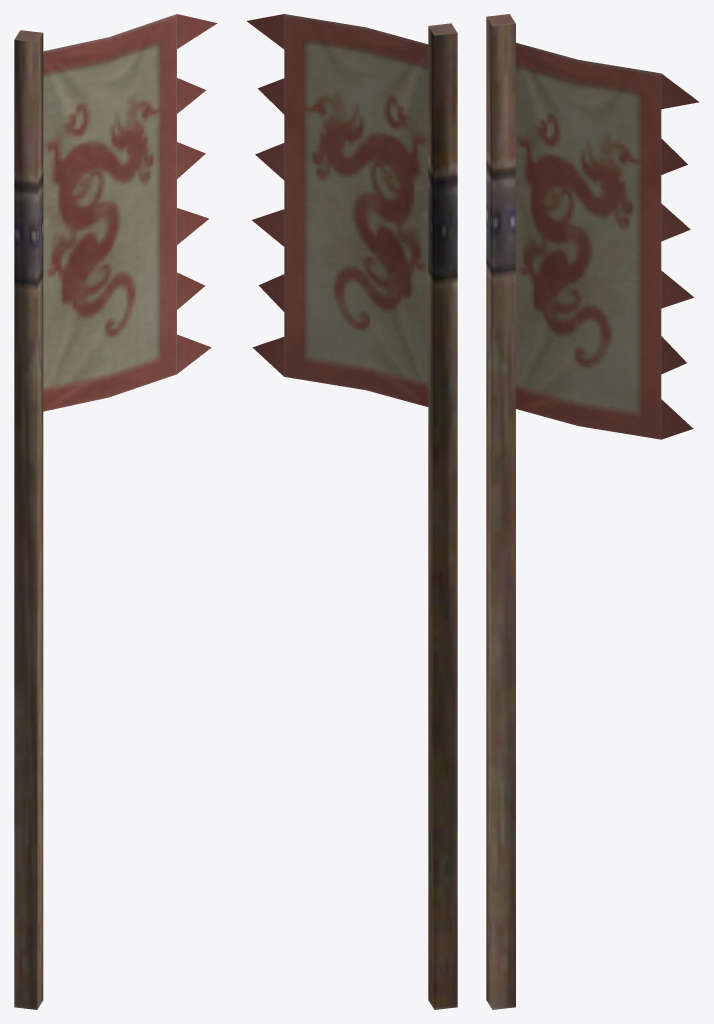
File: daoqi.fbx
3 views of the same model, side by side, from view 1: azimuth 30°, elevation 25°; view 2: azimuth 150°, elevation 25°; view 3: azimuth 330°, elevation 25° (orthographic).
Parts seen in each view (by area): view 1: daoqi; view 2: daoqi; view 3: daoqi.
Boxes of the visible parts, x1,y1,x2,y2 form: daoqi: [14, 14, 217, 1009]; daoqi: [247, 14, 457, 1009]; daoqi: [486, 14, 699, 1009].
Bounding box in the file's own units: 1.34 × 5.99 × 0.1892.
